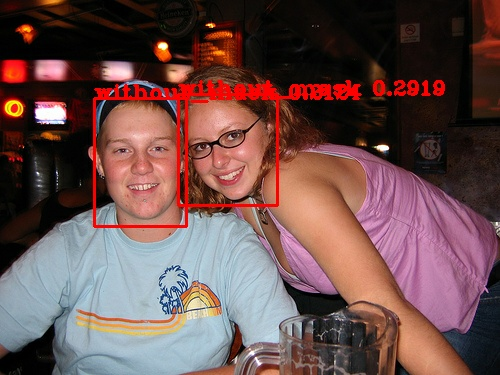without_mask: (90, 96, 194, 211), (181, 89, 282, 199)
